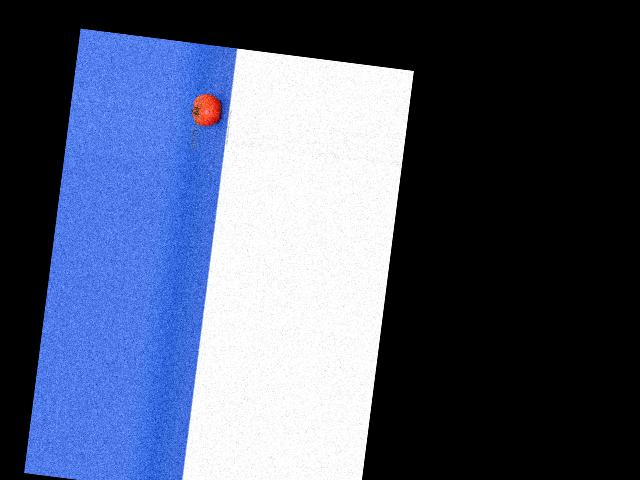tomato: (190, 91, 223, 127)
